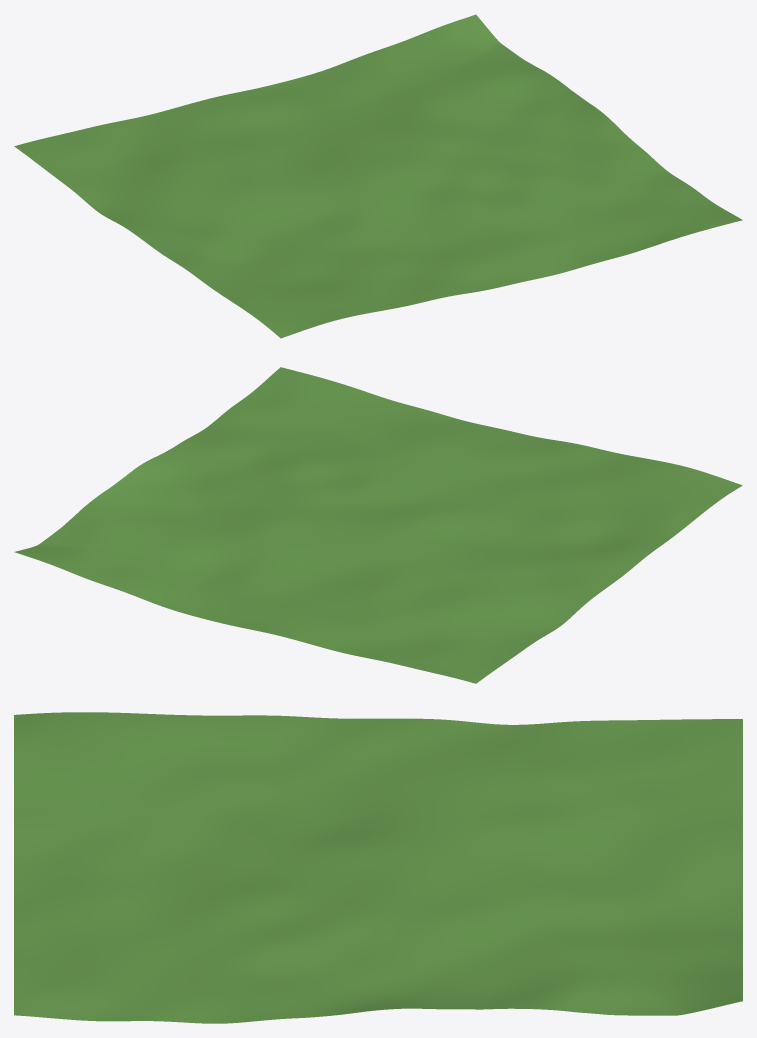
File: SM_Terrain_01_06.fbx
3 renders of one model, top to bottom at view 1: azimuth 30°, elevation 25°; view 2: azimuth 150°, elevation 25°; view 3: azimuth 270°, elevation 25°, orthographic. The views are drawn at different scales.
Parts seen in each view (by area): view 1: SM_Terrain_01_06; view 2: SM_Terrain_01_06; view 3: SM_Terrain_01_06.
Part boxes in pixels (left/top/right/bottom): SM_Terrain_01_06: left=14, top=14, right=742, bottom=338; SM_Terrain_01_06: left=14, top=367, right=742, bottom=683; SM_Terrain_01_06: left=14, top=712, right=742, bottom=1023.
Size of the model in its own units: 384 by 18.5 by 384.
